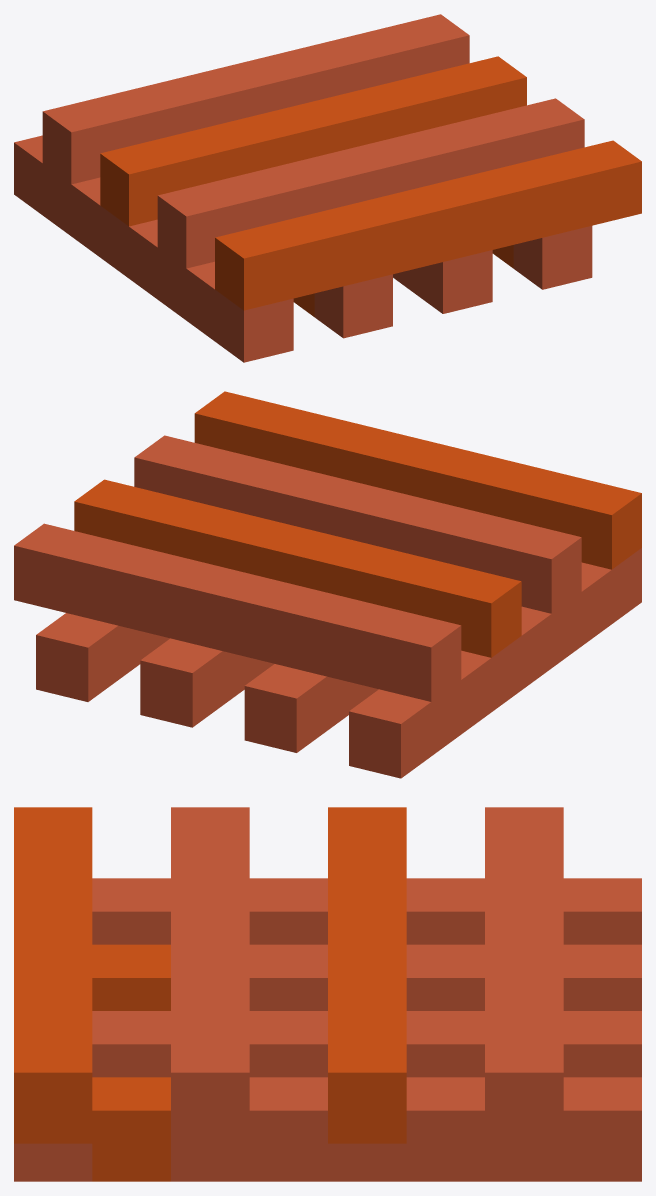
The model's file is CutCopper.obj.
3 renders of one model, top to bottom at view 1: azimuth 30°, elevation 25°; view 2: azimuth 150°, elevation 25°; view 3: azimuth 270°, elevation 25°, orthographic. The views are drawn at different scales.
Size of the model in its own units: 0.8 by 0.2 by 0.8.
Materials: 1 (1 with a texture image).
